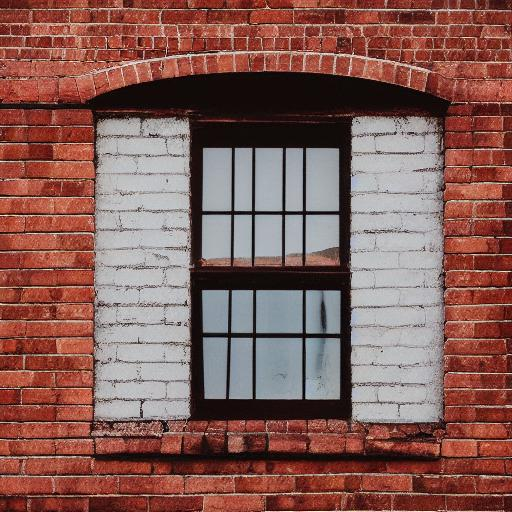Window: (74, 49, 462, 463)
